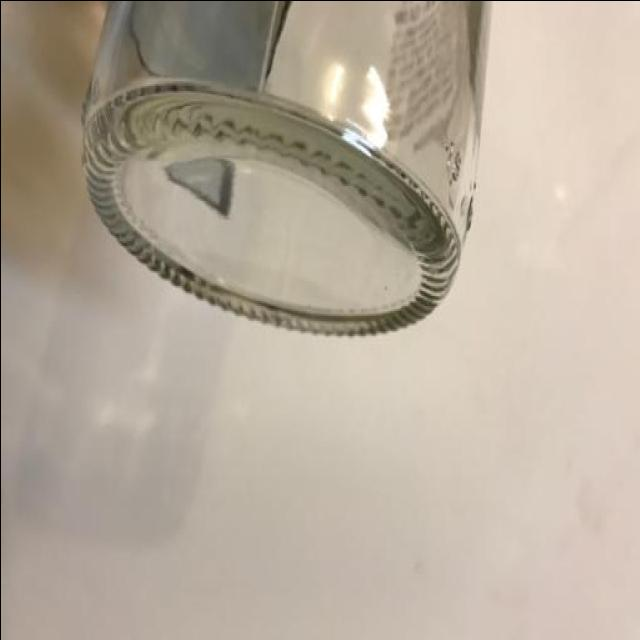glass: (77, 0, 487, 337)
